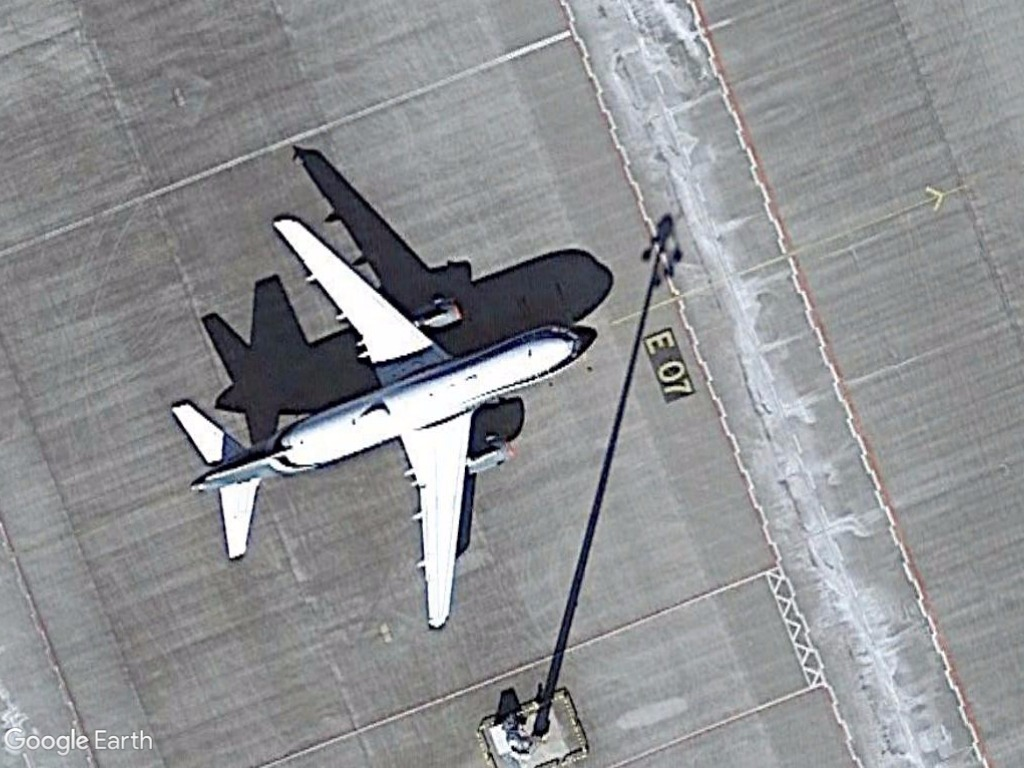airliner: (172, 214, 603, 640)
